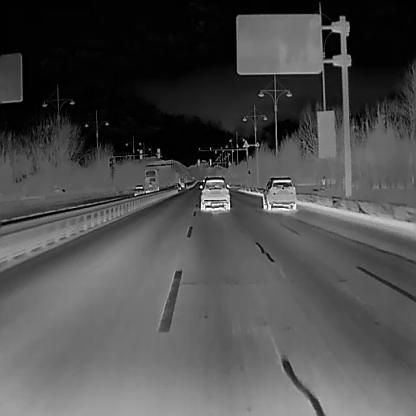car: (260, 175, 296, 211), (198, 175, 230, 212), (133, 184, 143, 198)
truck: (142, 167, 157, 195)
